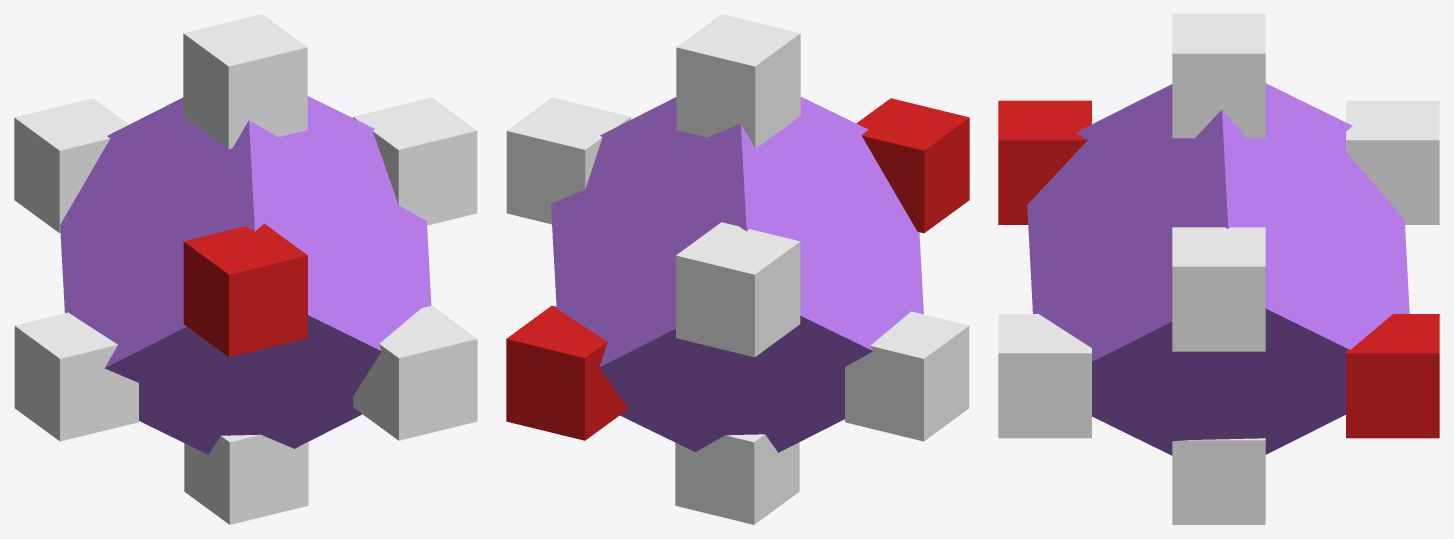
File: sodium-hydroxide.glb
3 views of the same model, side by side, from view 1: azimuth 30°, elevation 25°; view 2: azimuth 150°, elevation 25°; view 3: azimuth 270°, elevation 25° (orthographic). The views are drawn at different scales.
Visible parts, largest first — view 1: Cube.021; view 2: Cube.021; view 3: Cube.021.
Part boxes in pixels (left/top/right/bottom): Cube.021: left=14, top=14, right=477, bottom=524; Cube.021: left=506, top=14, right=969, bottom=524; Cube.021: left=998, top=14, right=1439, bottom=524.
Size of the model in its own units: 4.76 by 5 by 4.25.
1 material, 1 textured.
